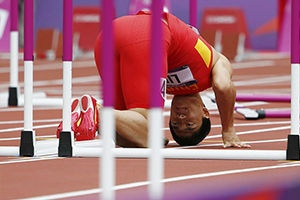falling: (76, 2, 257, 147)
